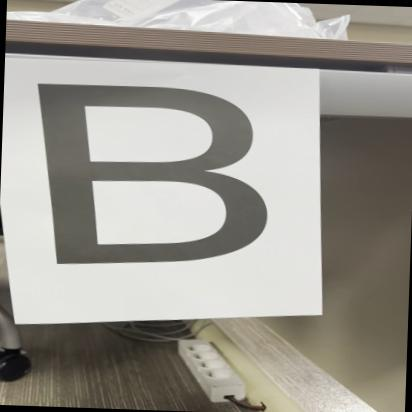seat: (23, 84, 268, 277)
